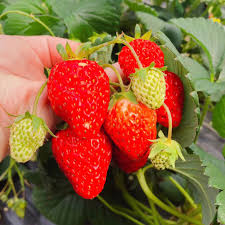ripe: (45, 55, 112, 138), (51, 125, 117, 199), (112, 93, 159, 160), (115, 36, 169, 78), (157, 67, 186, 128), (112, 140, 152, 180)
unripe: (7, 114, 48, 160), (130, 69, 170, 109), (148, 140, 179, 170)
